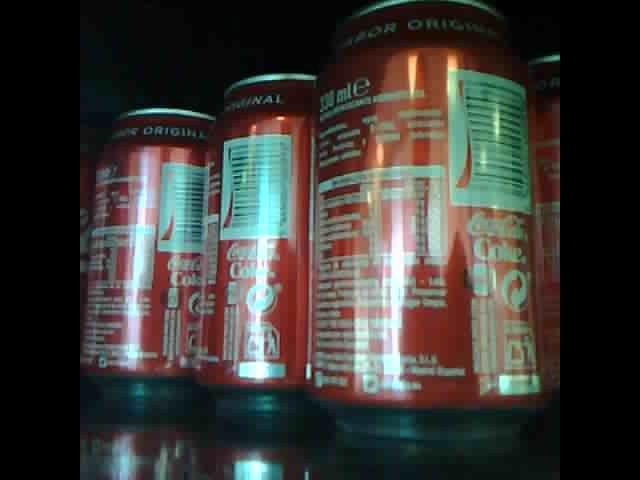coca cola: (307, 2, 544, 412), (77, 105, 214, 395), (209, 74, 310, 395), (525, 49, 560, 397)
